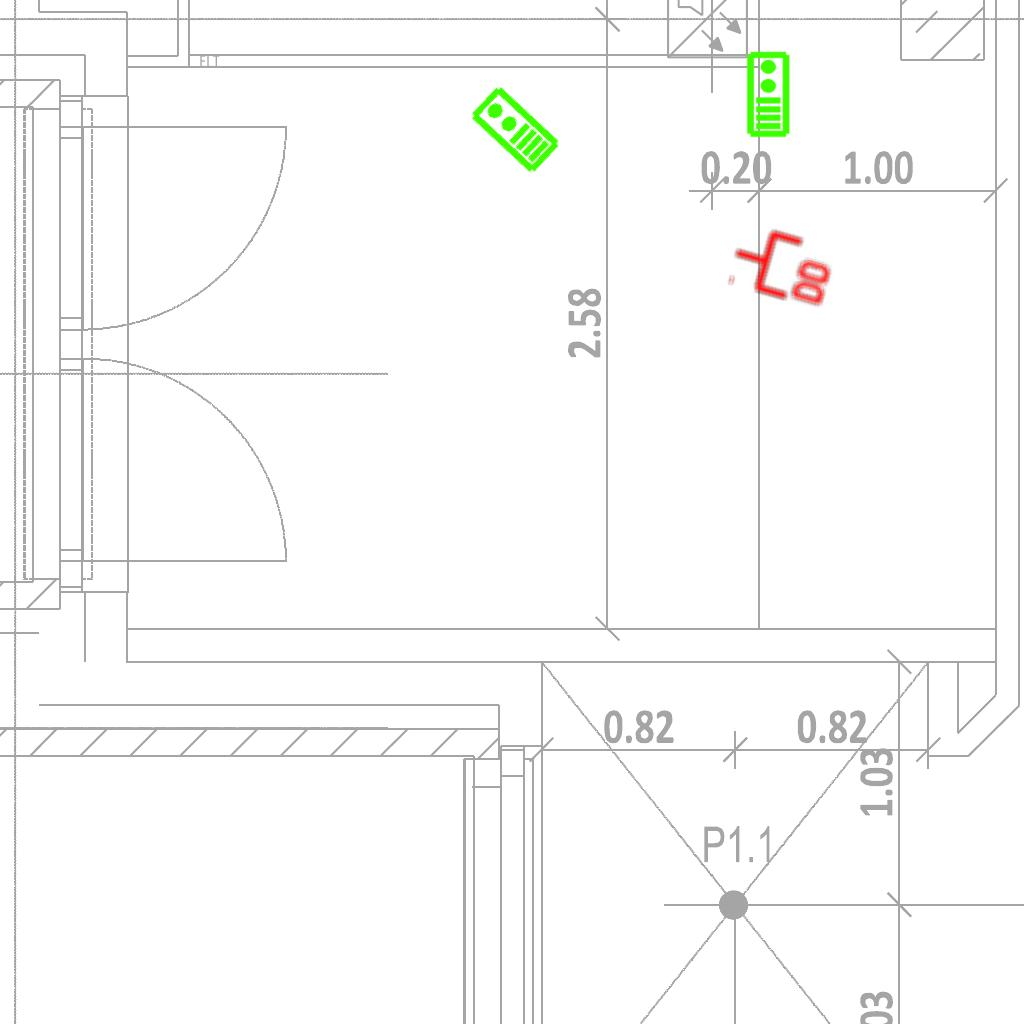Datenanschluss_zweifach: (724, 217, 843, 312)
Gegensprechanlage_mit_Video: (466, 82, 563, 178), (744, 50, 791, 138)
